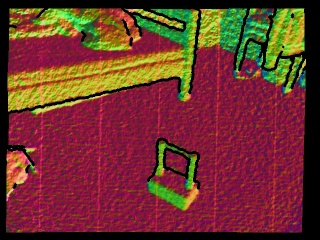station: (148, 138, 199, 211)
